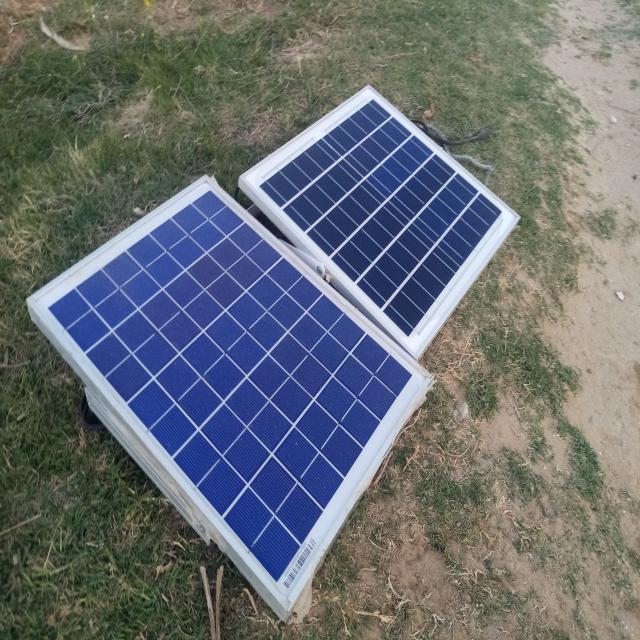Normal Solar Panel: (26, 178, 431, 607), (246, 84, 518, 351)
